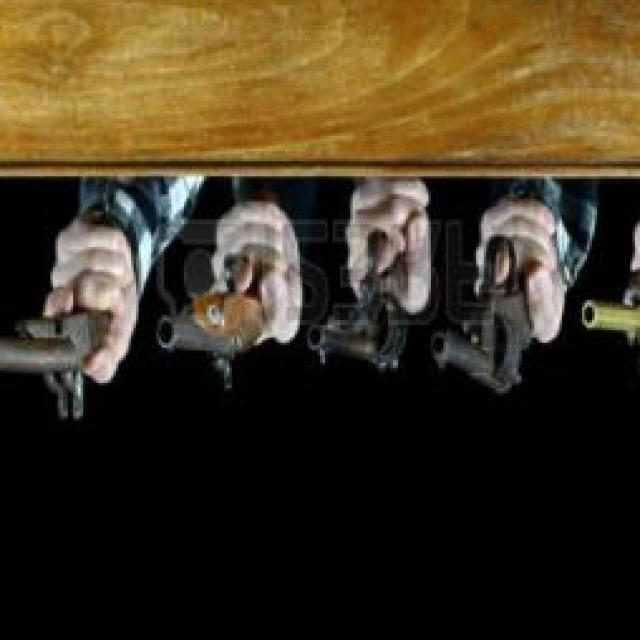pistol: (428, 222, 548, 398), (308, 226, 410, 383)
